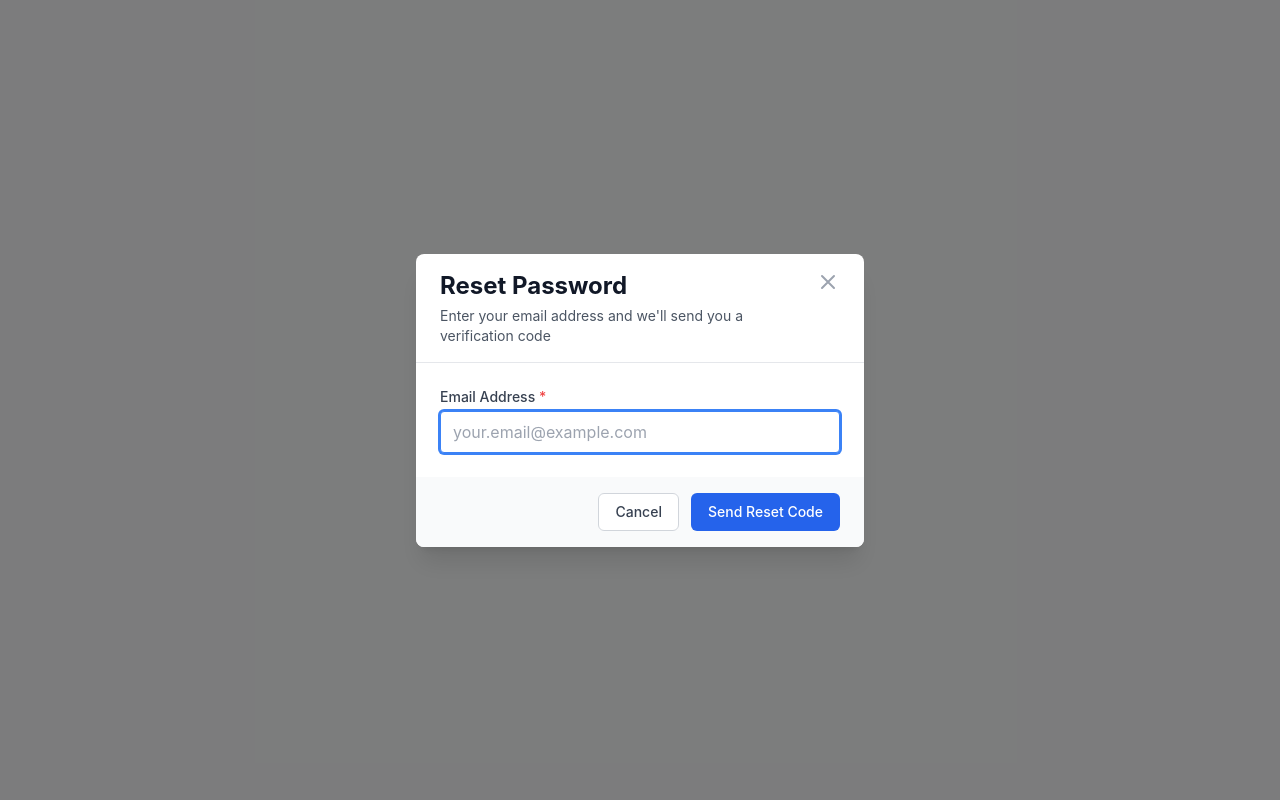
Scenario: PasswordResetForm › Step 1: Email Input › should advance to step 2 after successful code send
Type "test@example.com" into the field labelled "Email Address *" at (640, 432), box top-left (440, 410), bottom-right (840, 452)
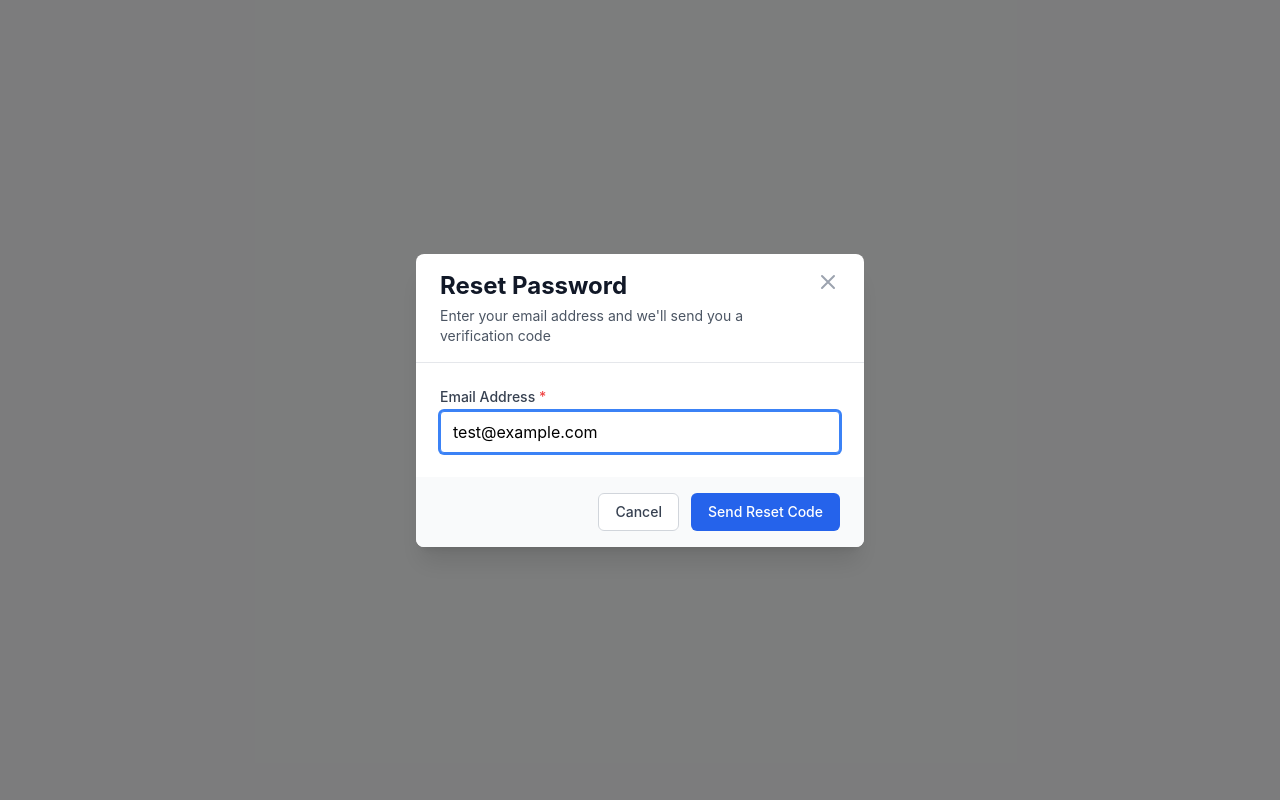
Click the button "Send Reset Code" at (766, 512), box top-left (691, 492), bottom-right (840, 530)
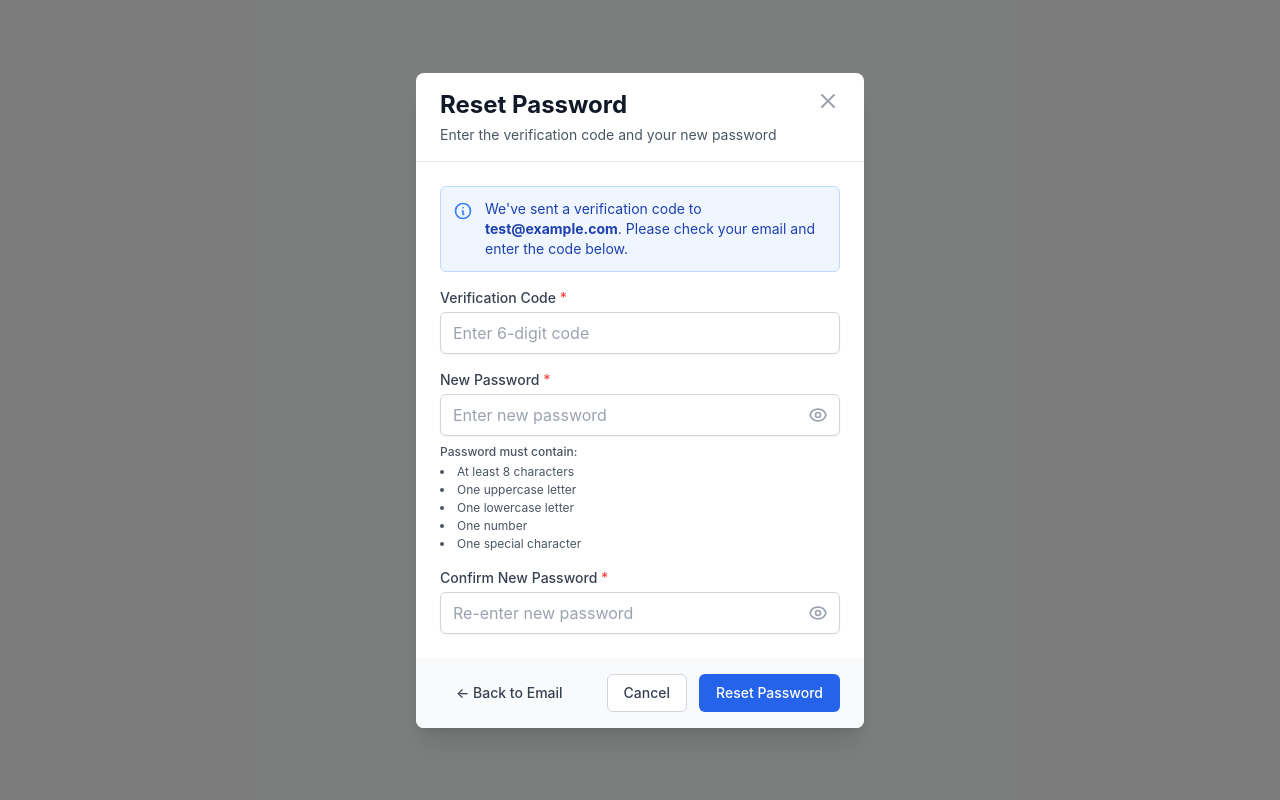
Check: the text "We've sent a verification code to" is shown, box top-left (485, 200), bottom-right (702, 216)
Check: the field labelled "Verification Code *" is shown, box top-left (440, 312), bottom-right (840, 354)
Check: the password field labelled "New Password *" is shown, box top-left (440, 394), bottom-right (840, 436)
